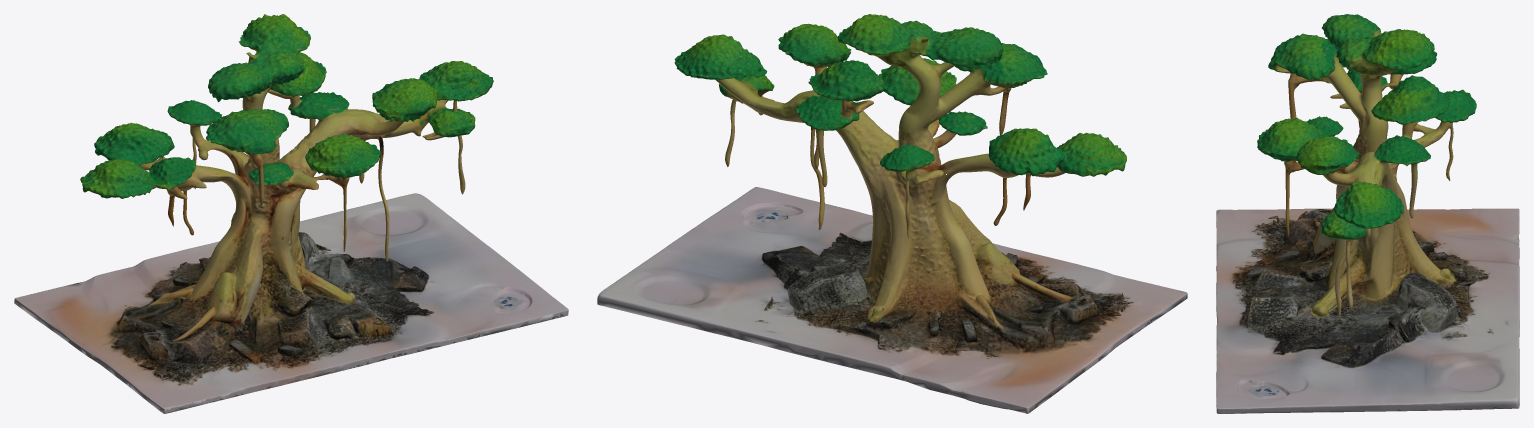
File: bonsai666-v4.glb
3 renders of one model, left to right at view 1: azimuth 30°, elevation 25°; view 2: azimuth 150°, elevation 25°; view 3: azimuth 270°, elevation 25°, orthographic. The views are drawn at different scales.
Parts seen in each view (by area): view 1: tripo_node_268a2af7-8394-418a-9267-08b60b664230; view 2: tripo_node_268a2af7-8394-418a-9267-08b60b664230; view 3: tripo_node_268a2af7-8394-418a-9267-08b60b664230.
Part boxes in pixels (x1=…): tripo_node_268a2af7-8394-418a-9267-08b60b664230: x1=14, y1=14, x2=568, y2=413; tripo_node_268a2af7-8394-418a-9267-08b60b664230: x1=597, y1=14, x2=1187, y2=413; tripo_node_268a2af7-8394-418a-9267-08b60b664230: x1=1216, y1=14, x2=1519, y2=413.
Size of the model in its own units: 0.9953 by 0.6401 by 0.6223.
1 material, 1 textured.
